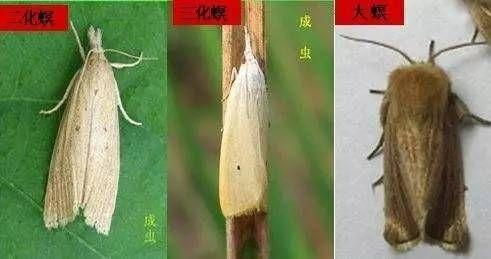Crambidae: (40, 19, 144, 238), (215, 23, 274, 220)
